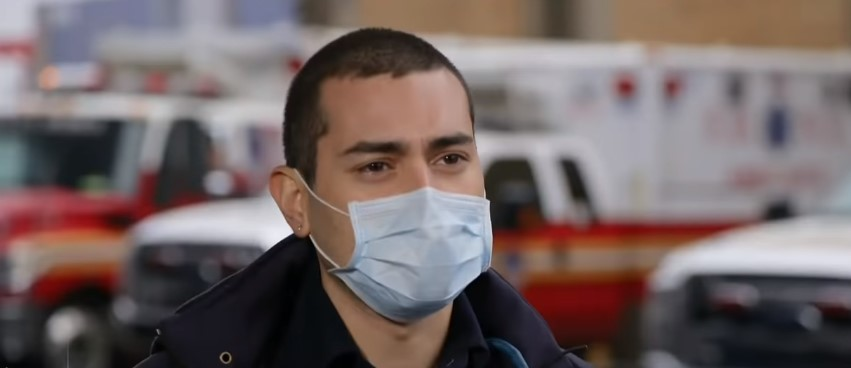face_with_mask: (266, 26, 494, 319)
